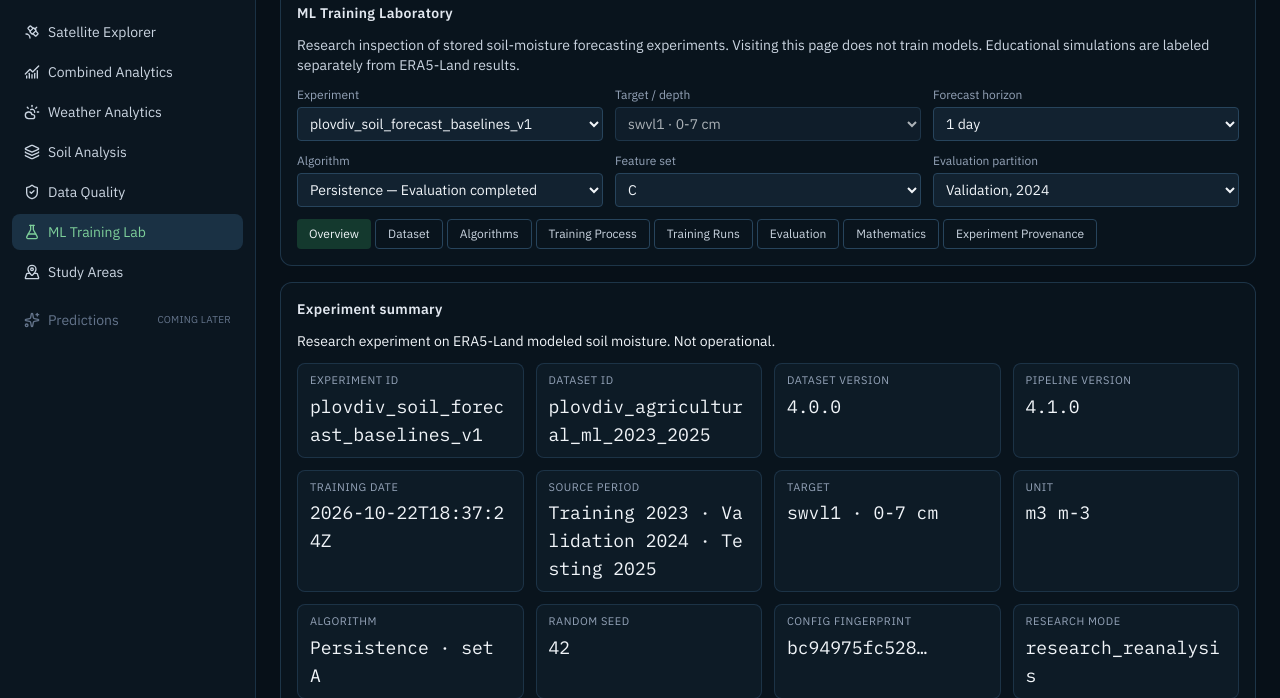
ML Training Laboratory › shows boosting stage history from recorded points only
The width and height of the screenshot is (1280, 698).
Check: the heading "Experiment summary" is shown, box [297,299,443,319]
Step 1. Click the tab "Training Runs" → x=703, y=234, box [654,219,753,249]
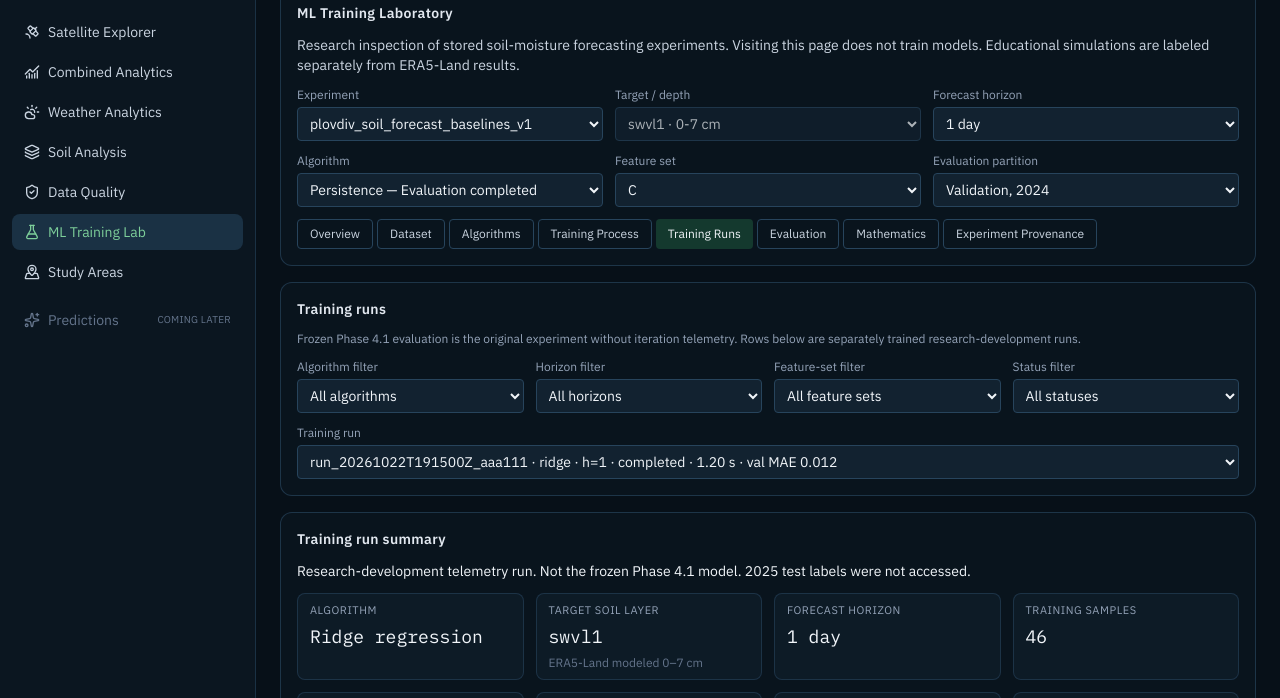
Step 2. Select "run_20261022T191600Z_bbb222 · gradient_boosting · h=1 · completed · 2.10 s · val" in the dropdown labelled "Training run" → x=768, y=462, box [297,445,1239,479]
(page scrolled)
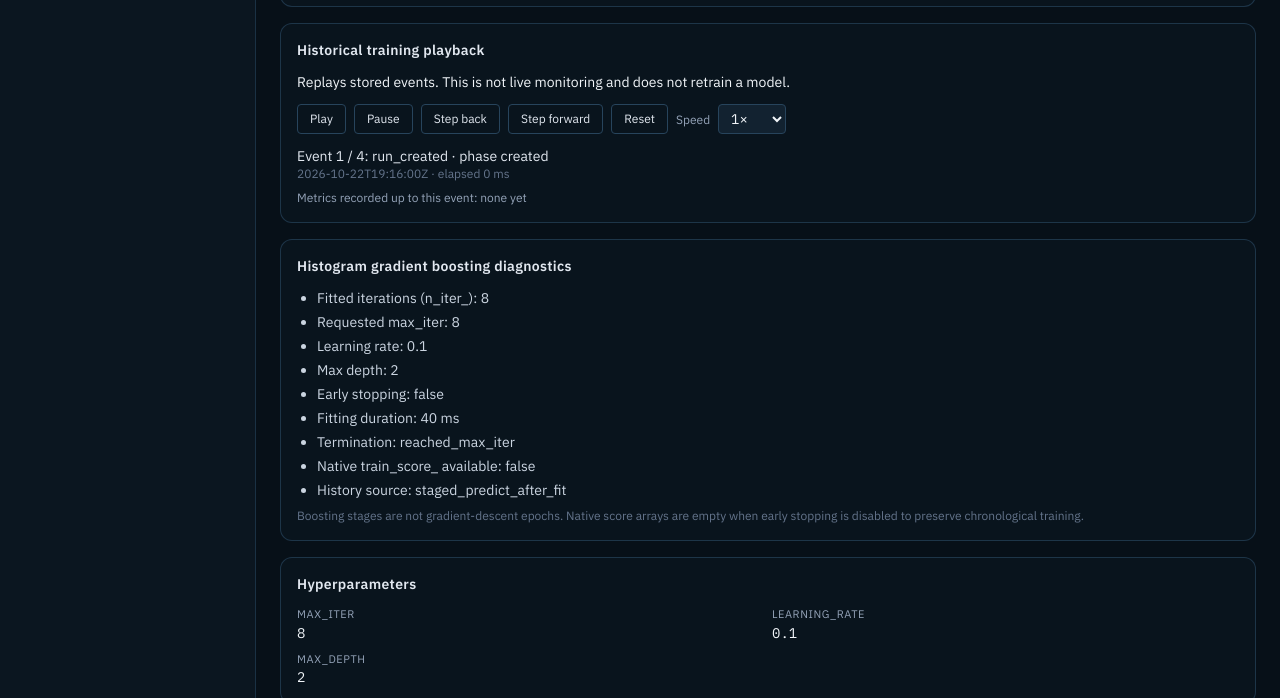
Check: the list item "Fitted iterations (n_iter_): 8" is shown, box [317,289,489,307]
